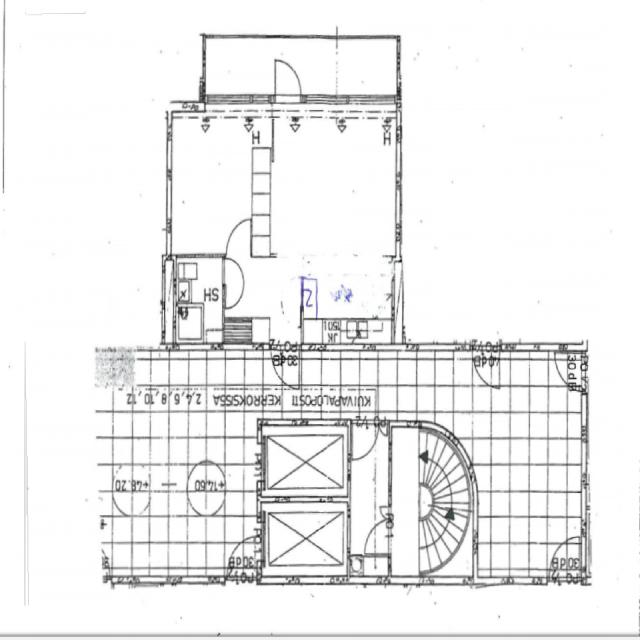door: (271, 344, 299, 388), (275, 59, 301, 102), (226, 220, 250, 256), (222, 259, 243, 283)
